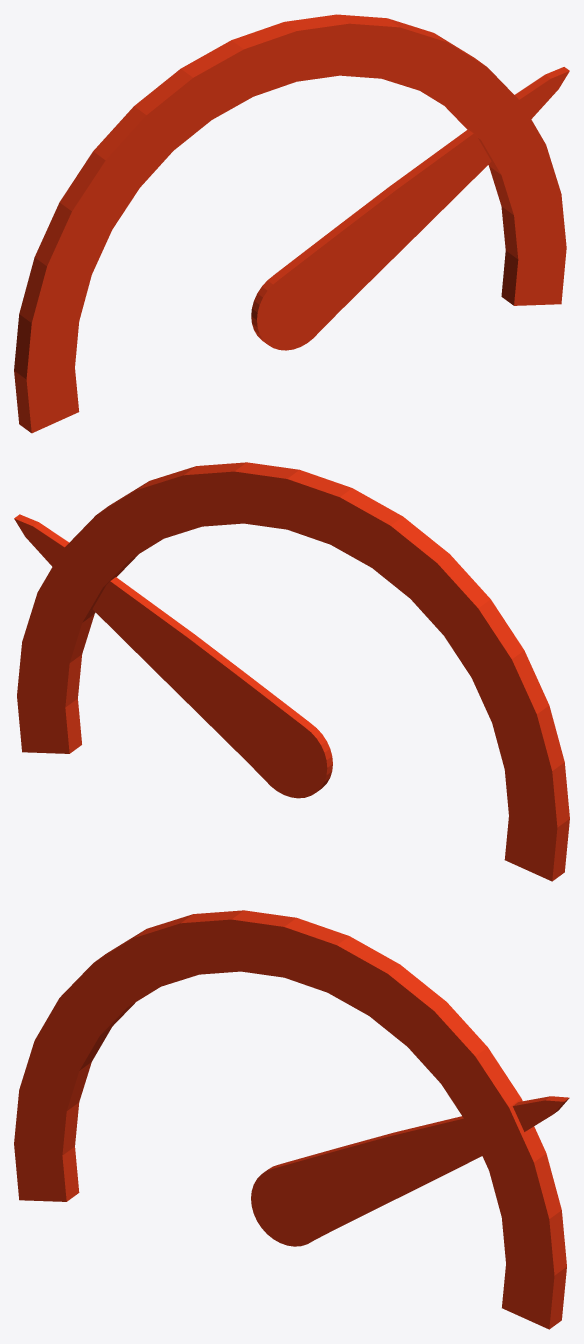
File: boost.fbx
The picture shows the model from 3 angles, top to bottom: view 1: azimuth 30°, elevation 25°; view 2: azimuth 150°, elevation 25°; view 3: azimuth 330°, elevation 25°; orthographic projection.
Visible parts, largest first — view 1: boost; view 2: boost; view 3: boost.
Boxes of the visible parts, box(x1,y1,x2,y2) form: boost: box(14, 14, 569, 433); boost: box(14, 462, 569, 881); boost: box(14, 910, 569, 1329).
Bounding box in the file's own units: 172 × 102 × 6.85.
